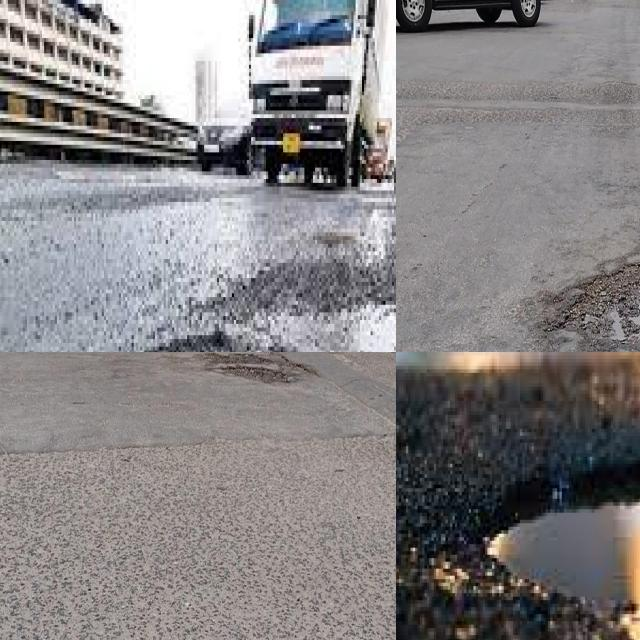Pothole: (490, 501, 640, 640), (555, 256, 640, 346), (199, 352, 291, 387)
